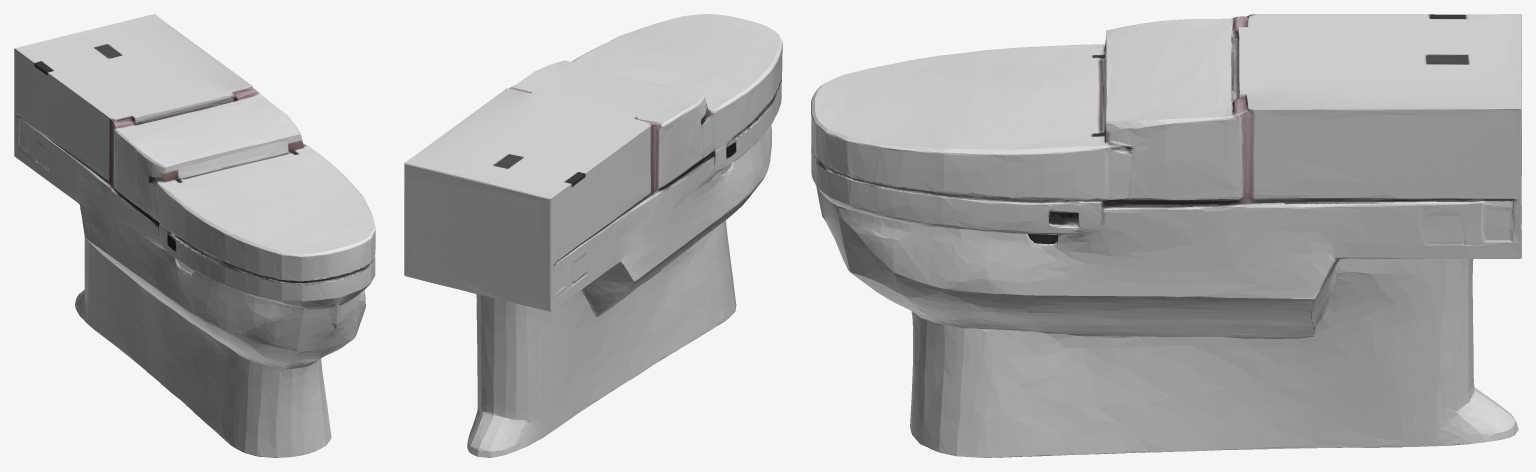
Rendered from f50cdd36-4261-46b1-9dd8-0fa95b9eb4a2.glb.
The picture shows the model from 3 angles, left to right: view 1: azimuth 30°, elevation 25°; view 2: azimuth 150°, elevation 25°; view 3: azimuth 270°, elevation 25°; orthographic projection. The views are drawn at different scales.
Parts seen in each view (by area): view 1: world; view 2: world; view 3: world.
Boxes of the visible parts, x1,y1,x2,y2 form: world: [14, 14, 375, 457]; world: [404, 14, 782, 457]; world: [811, 14, 1521, 457].
Bounding box in the file's own units: 0.3524 × 0.5714 × 1.
Materials: 1 (1 with a texture image).
